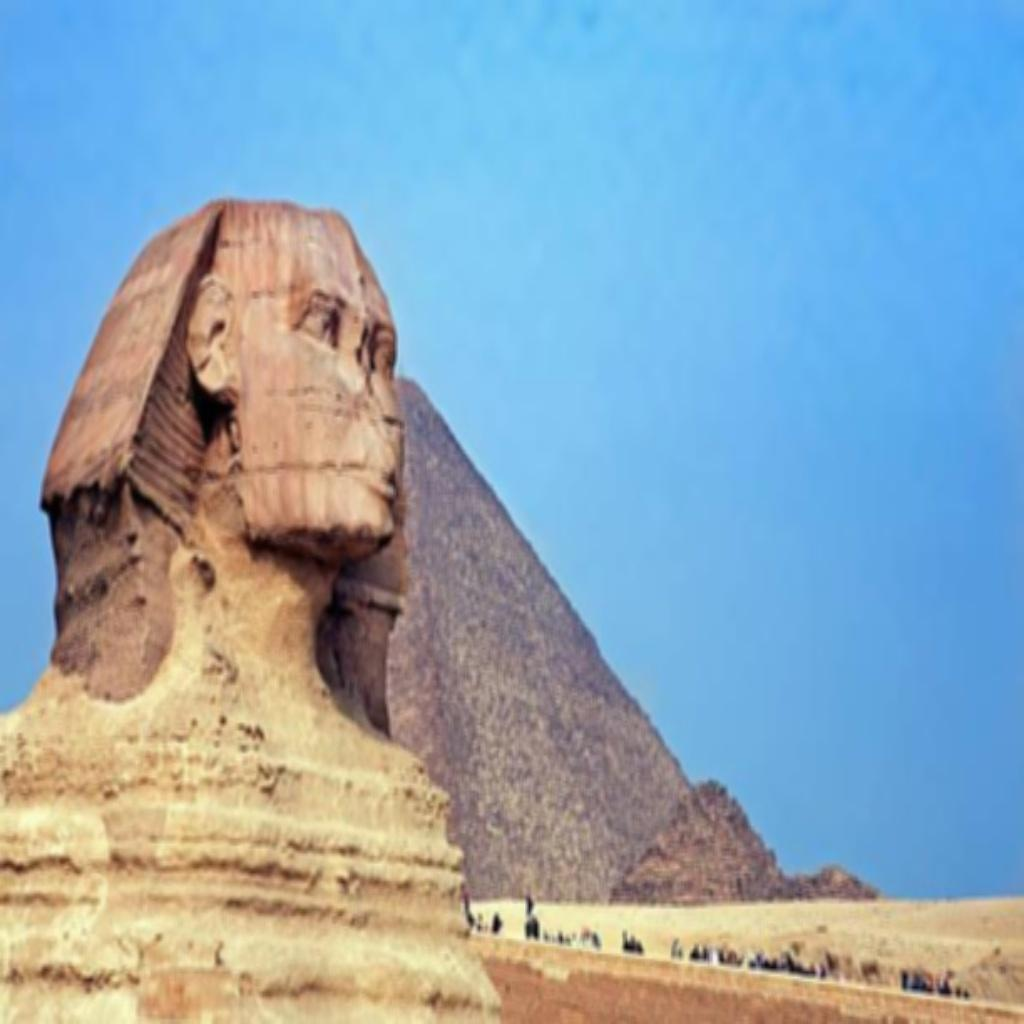Sphinx: (0, 193, 502, 1019)
